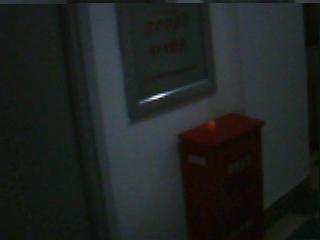oball: (208, 119, 216, 127)
